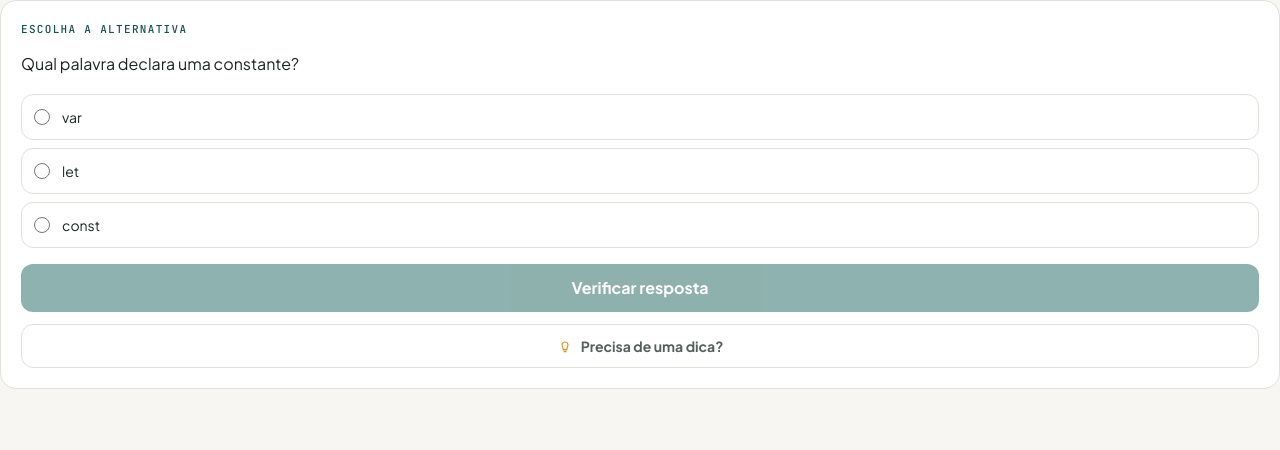
Test: múltipla escolha pelo teclado › o pedido de dica se anuncia como fechado antes de abrir
What coordinates should you click on to do the following:
click the button "Precisa de uma dica?"
I would click on:
 (640, 346)
Its box is x1=21 y1=324 x2=1259 y2=368.
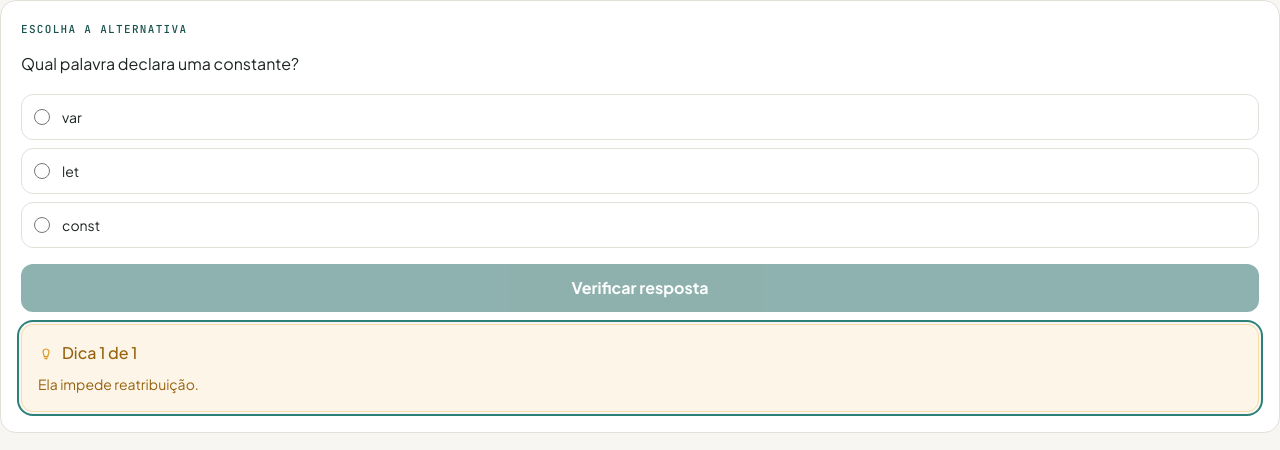
Expected: the button "Precisa de uma dica" is gone
Expected: the text "Dica 1 de 1" is shown, x1=38 y1=342 x2=138 y2=362
